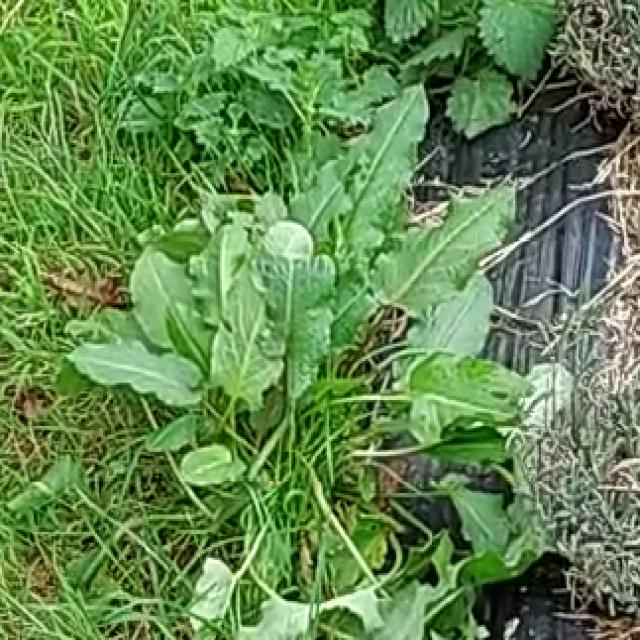organic waste: (59, 37, 547, 612)
